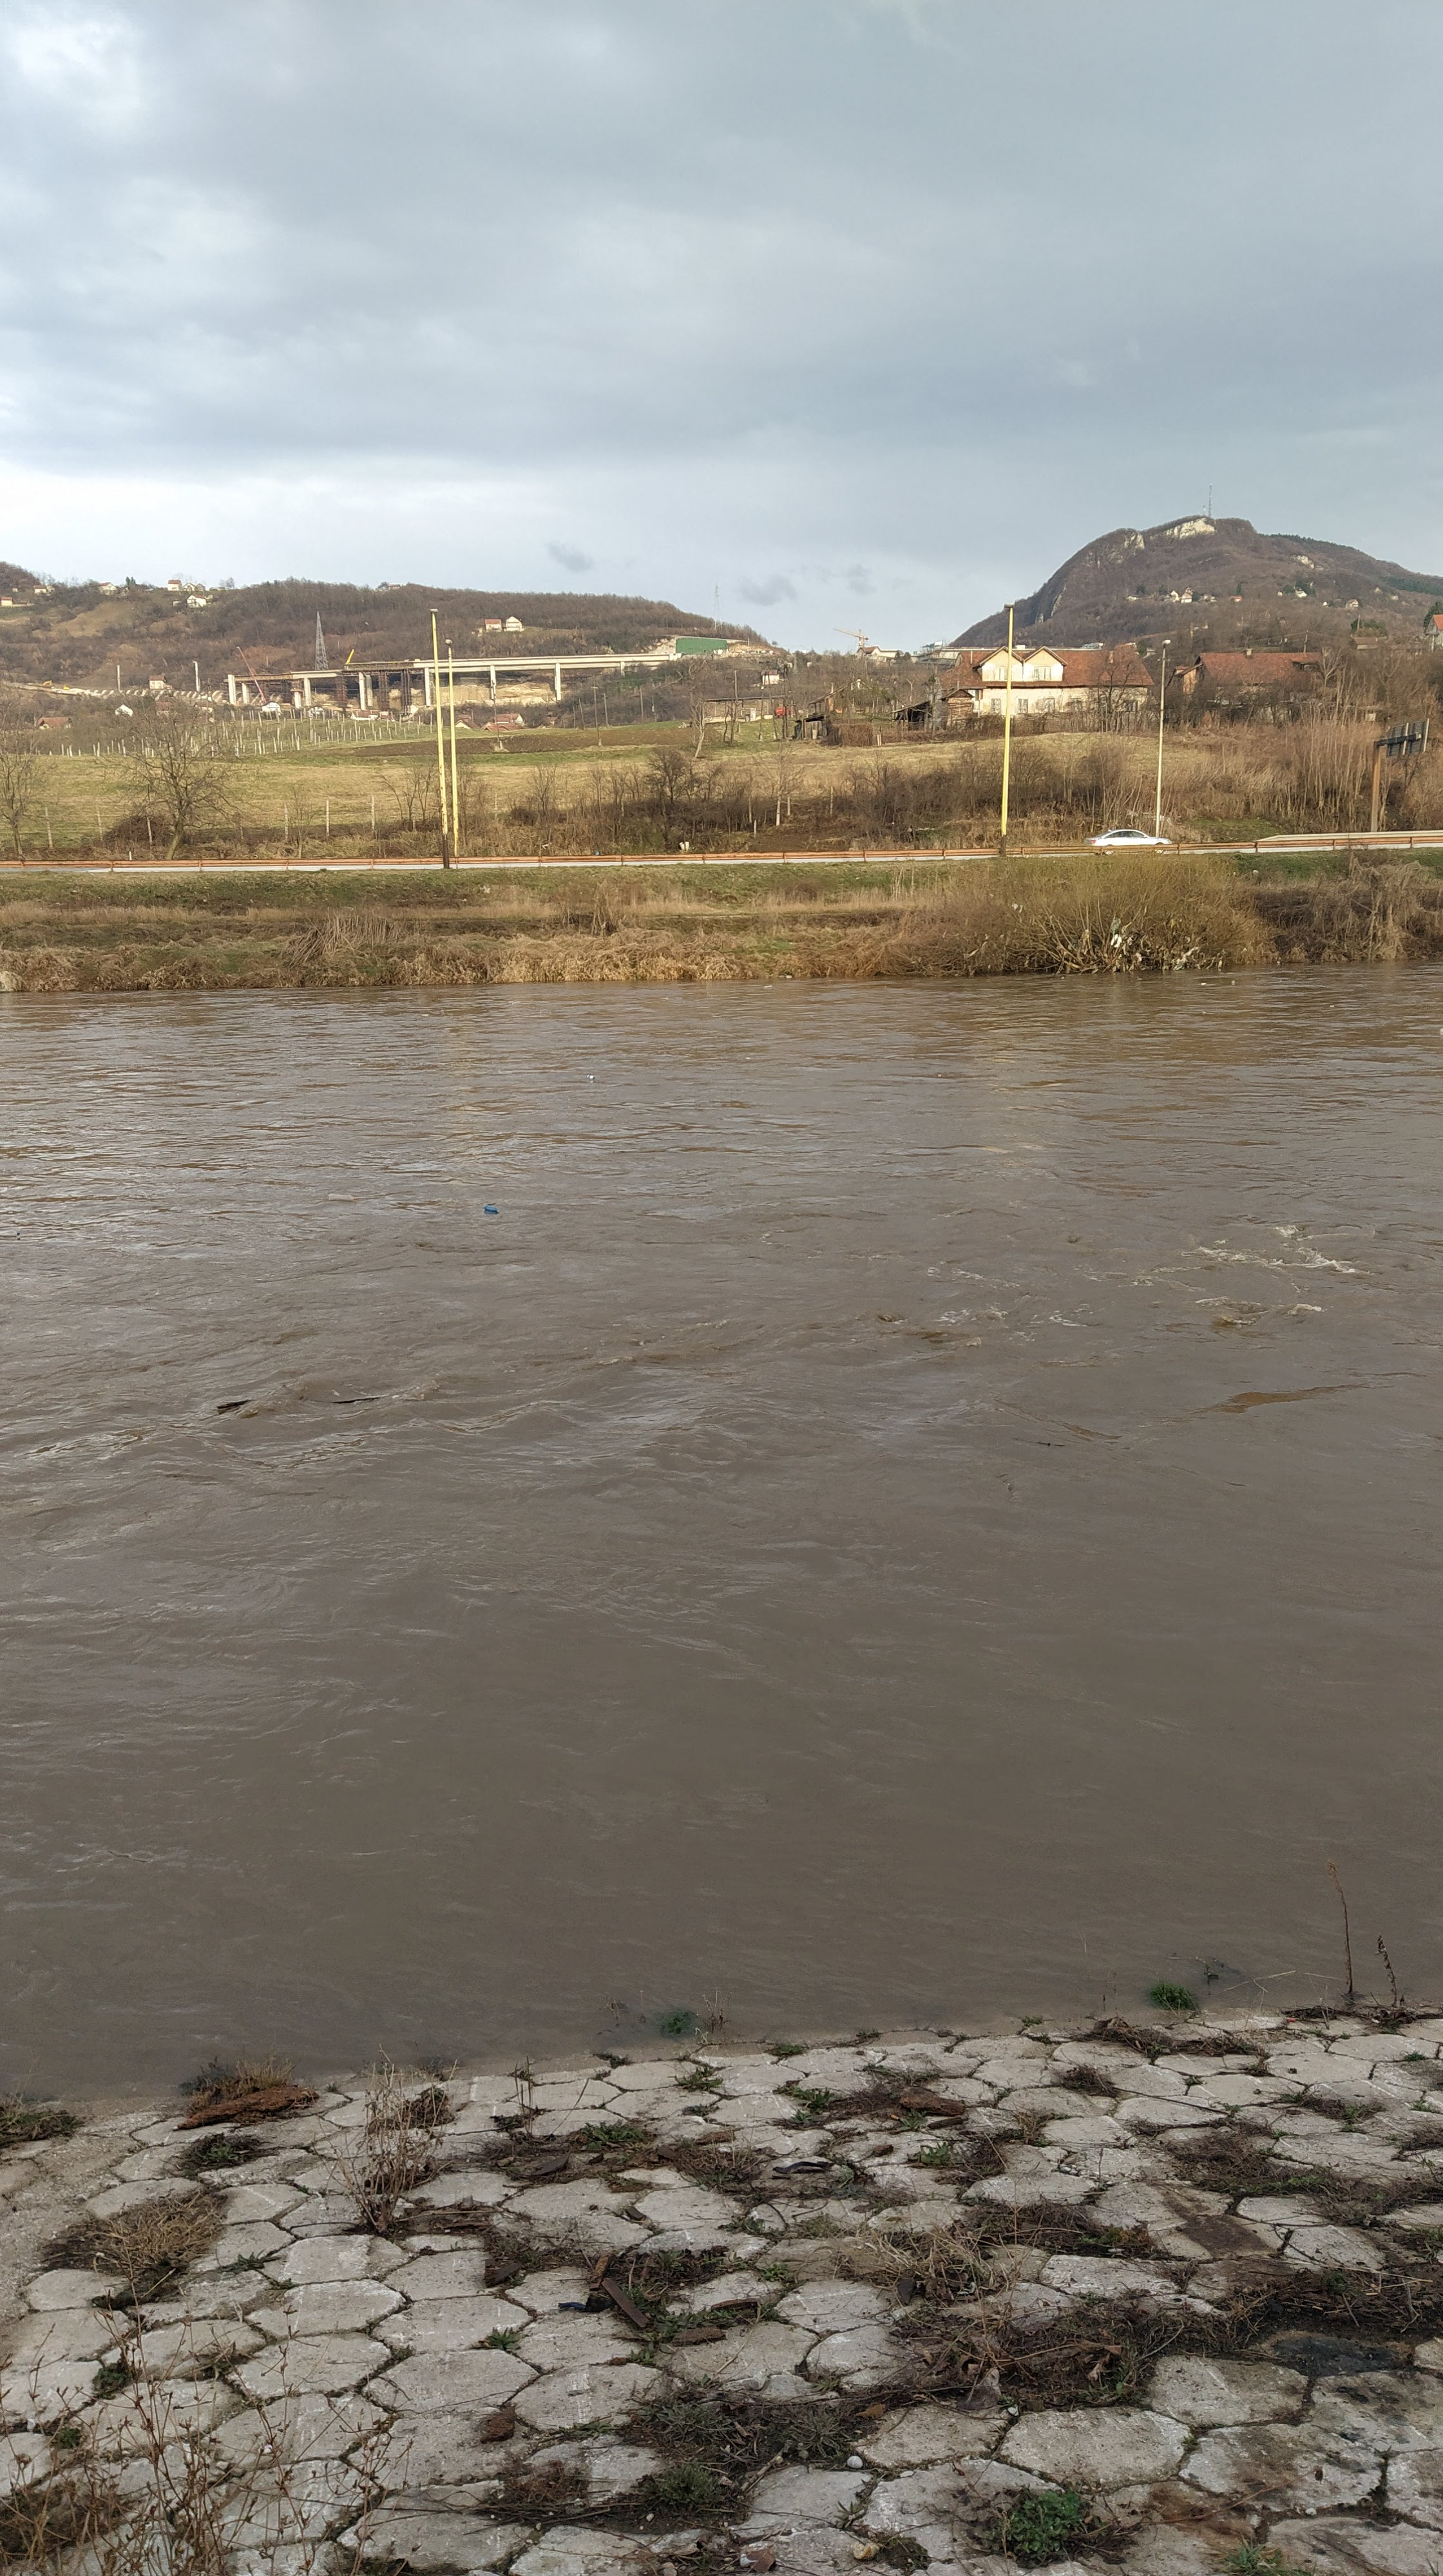Plastic Bottle: (329, 1192, 356, 1201), (0, 1230, 19, 1237), (485, 1205, 498, 1214), (586, 1074, 593, 1079), (765, 984, 772, 987), (1200, 982, 1206, 984)
